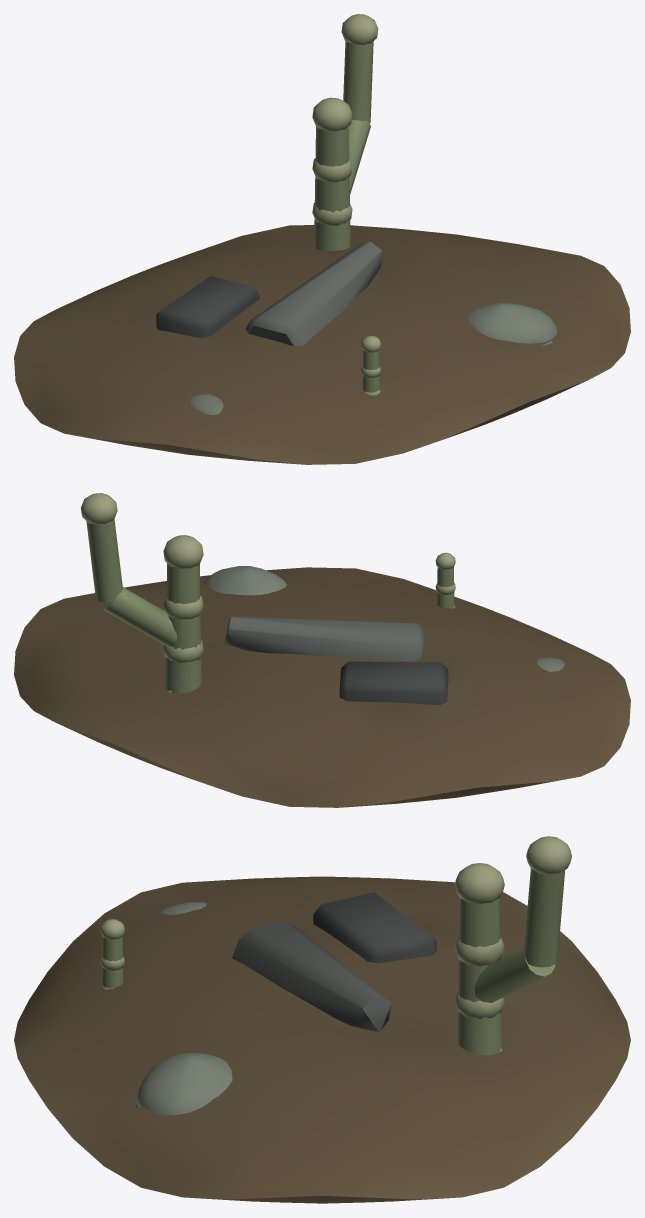
The model's file is rock_bucket_b.glb.
3 views of the same model, one above another, from view 1: azimuth 30°, elevation 25°; view 2: azimuth 150°, elevation 25°; view 3: azimuth 270°, elevation 25° (orthographic). The views are drawn at different scales.
Visible parts, largest first — view 1: Surface; view 2: Surface; view 3: Surface.
Part boxes in pixels (left/top/right/bottom): Surface: left=14, top=14, right=630, bottom=464; Surface: left=14, top=493, right=630, bottom=807; Surface: left=14, top=836, right=630, bottom=1203.
Size of the model in its own units: 3.03 by 1.41 by 2.35.
